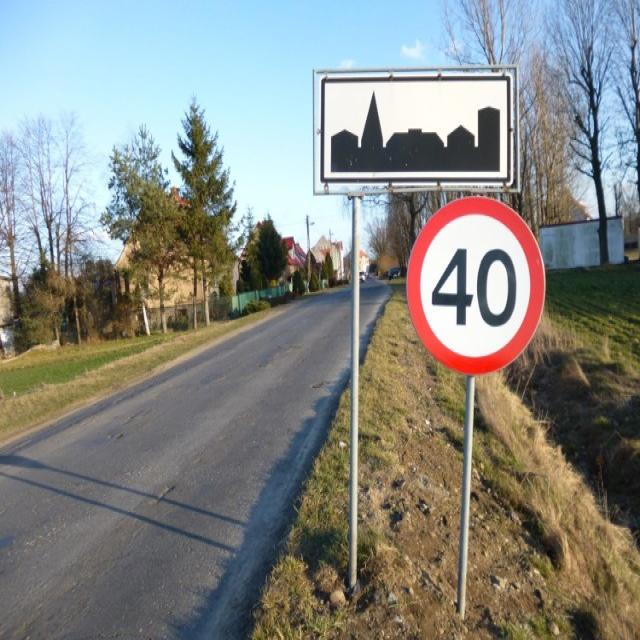Speed Limit -40-: (428, 244, 518, 330)
